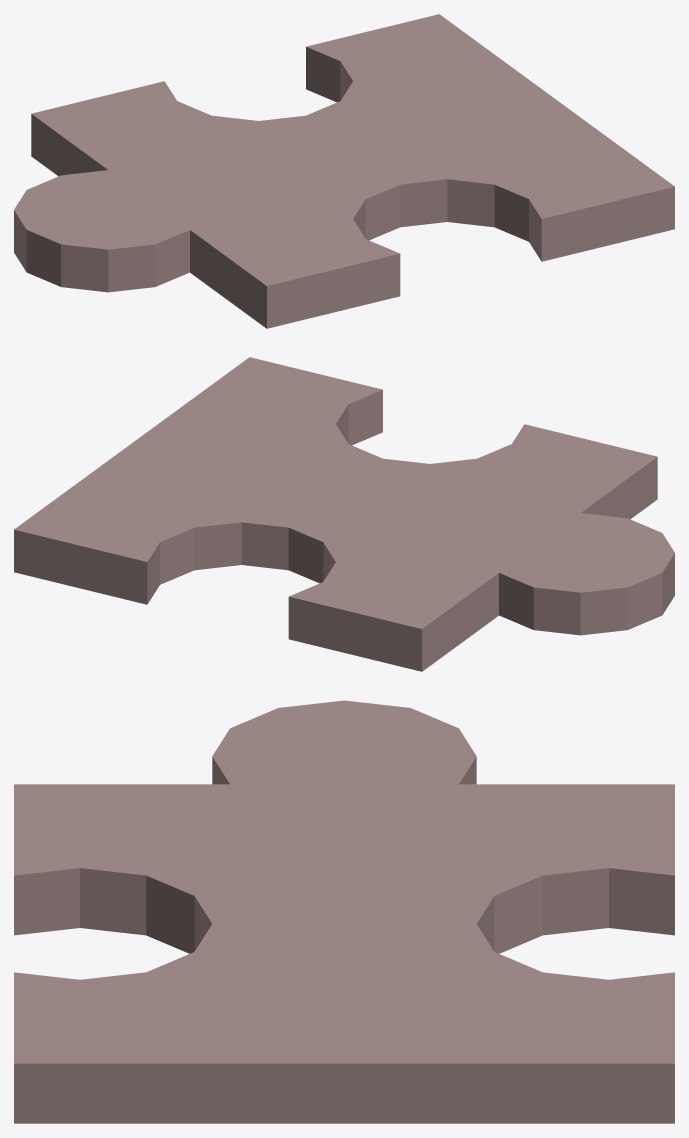
File: Puzzle_02_MOD.fbx
The picture shows the model from 3 angles, top to bottom: view 1: azimuth 30°, elevation 25°; view 2: azimuth 150°, elevation 25°; view 3: azimuth 270°, elevation 25°; orthographic projection. The views are drawn at different scales.
Parts seen in each view (by area): view 1: polySurface47; view 2: polySurface47; view 3: polySurface47.
Part boxes in pixels (box(x1,y1,x2,y2)): polySurface47: box(14, 14, 674, 328); polySurface47: box(14, 357, 674, 671); polySurface47: box(14, 700, 674, 1123).
Bounding box in the file's own units: 6.5 × 0.5 × 5.
